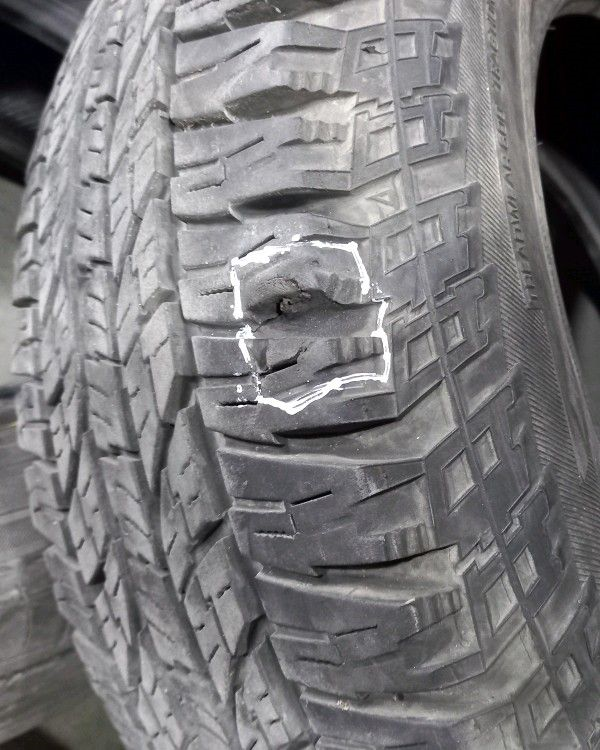tr: (247, 283, 380, 381)
